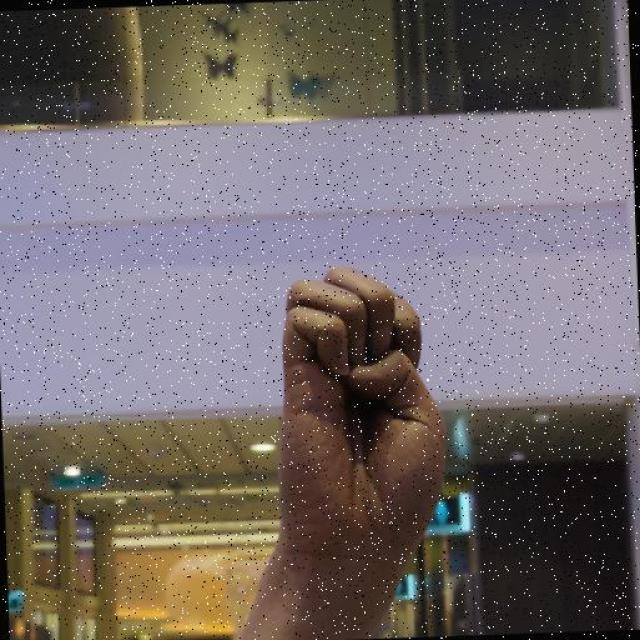E: (269, 260, 453, 570)
